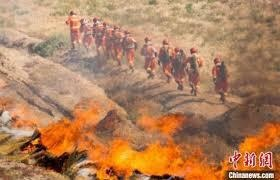fire: (1, 95, 278, 180)
